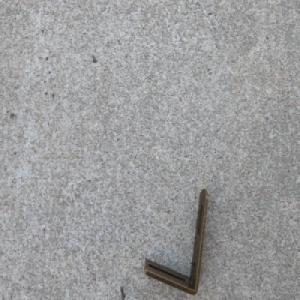MetalPart: (143, 188, 210, 296)
